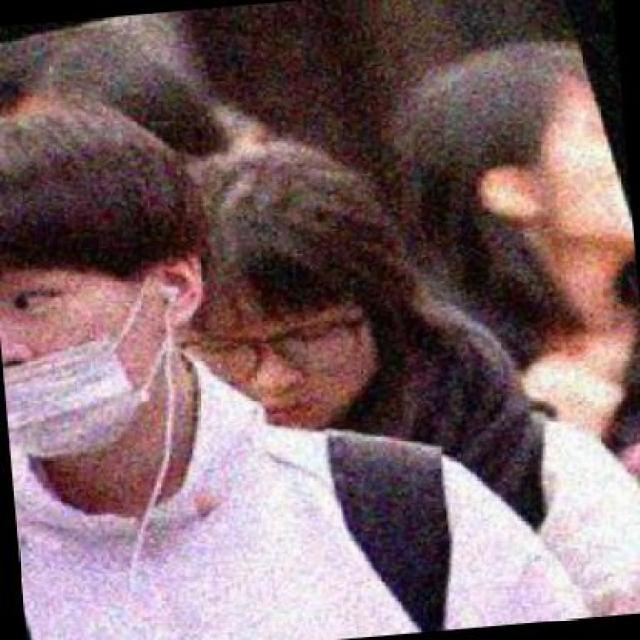hairnet: (0, 94, 243, 511)
